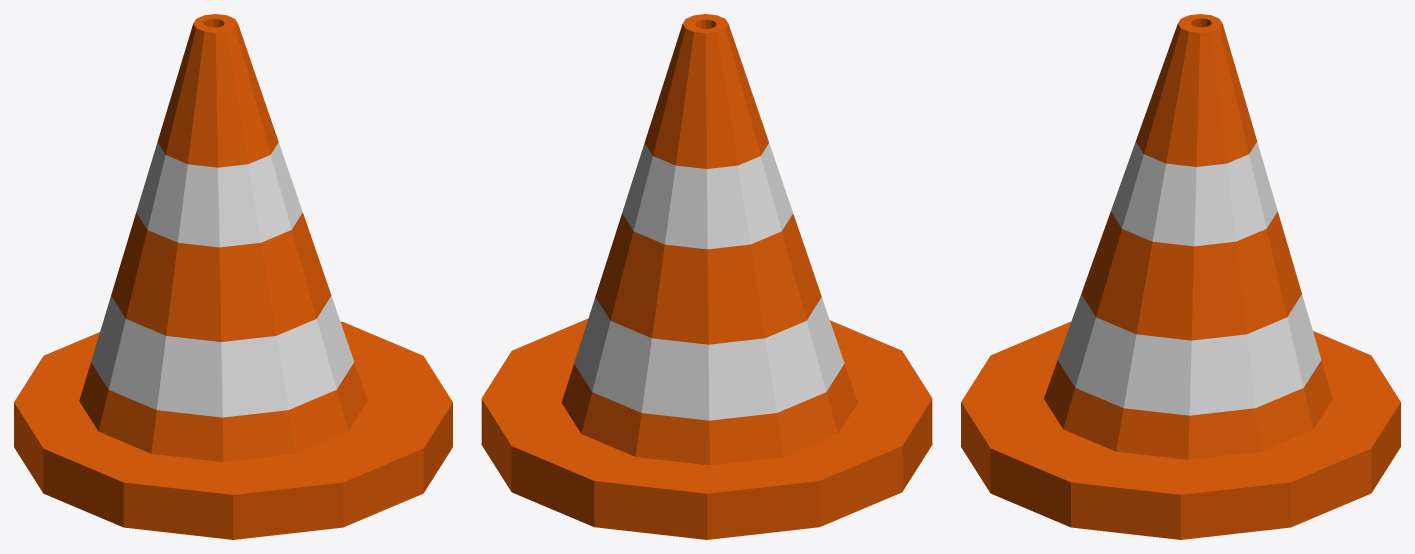
The model's file is TrafficCone.fbx.
The picture shows the model from 3 angles, left to right: view 1: azimuth 30°, elevation 25°; view 2: azimuth 150°, elevation 25°; view 3: azimuth 270°, elevation 25°; orthographic projection. The views are drawn at different scales.
Visible parts, largest first — view 1: Circle; view 2: Circle; view 3: Circle.
Boxes of the visible parts, <box> form: Circle: <box>14,14,452,539</box>; Circle: <box>481,14,932,539</box>; Circle: <box>961,14,1400,539</box>.
Bounding box in the file's own units: 200 × 211 × 200.
